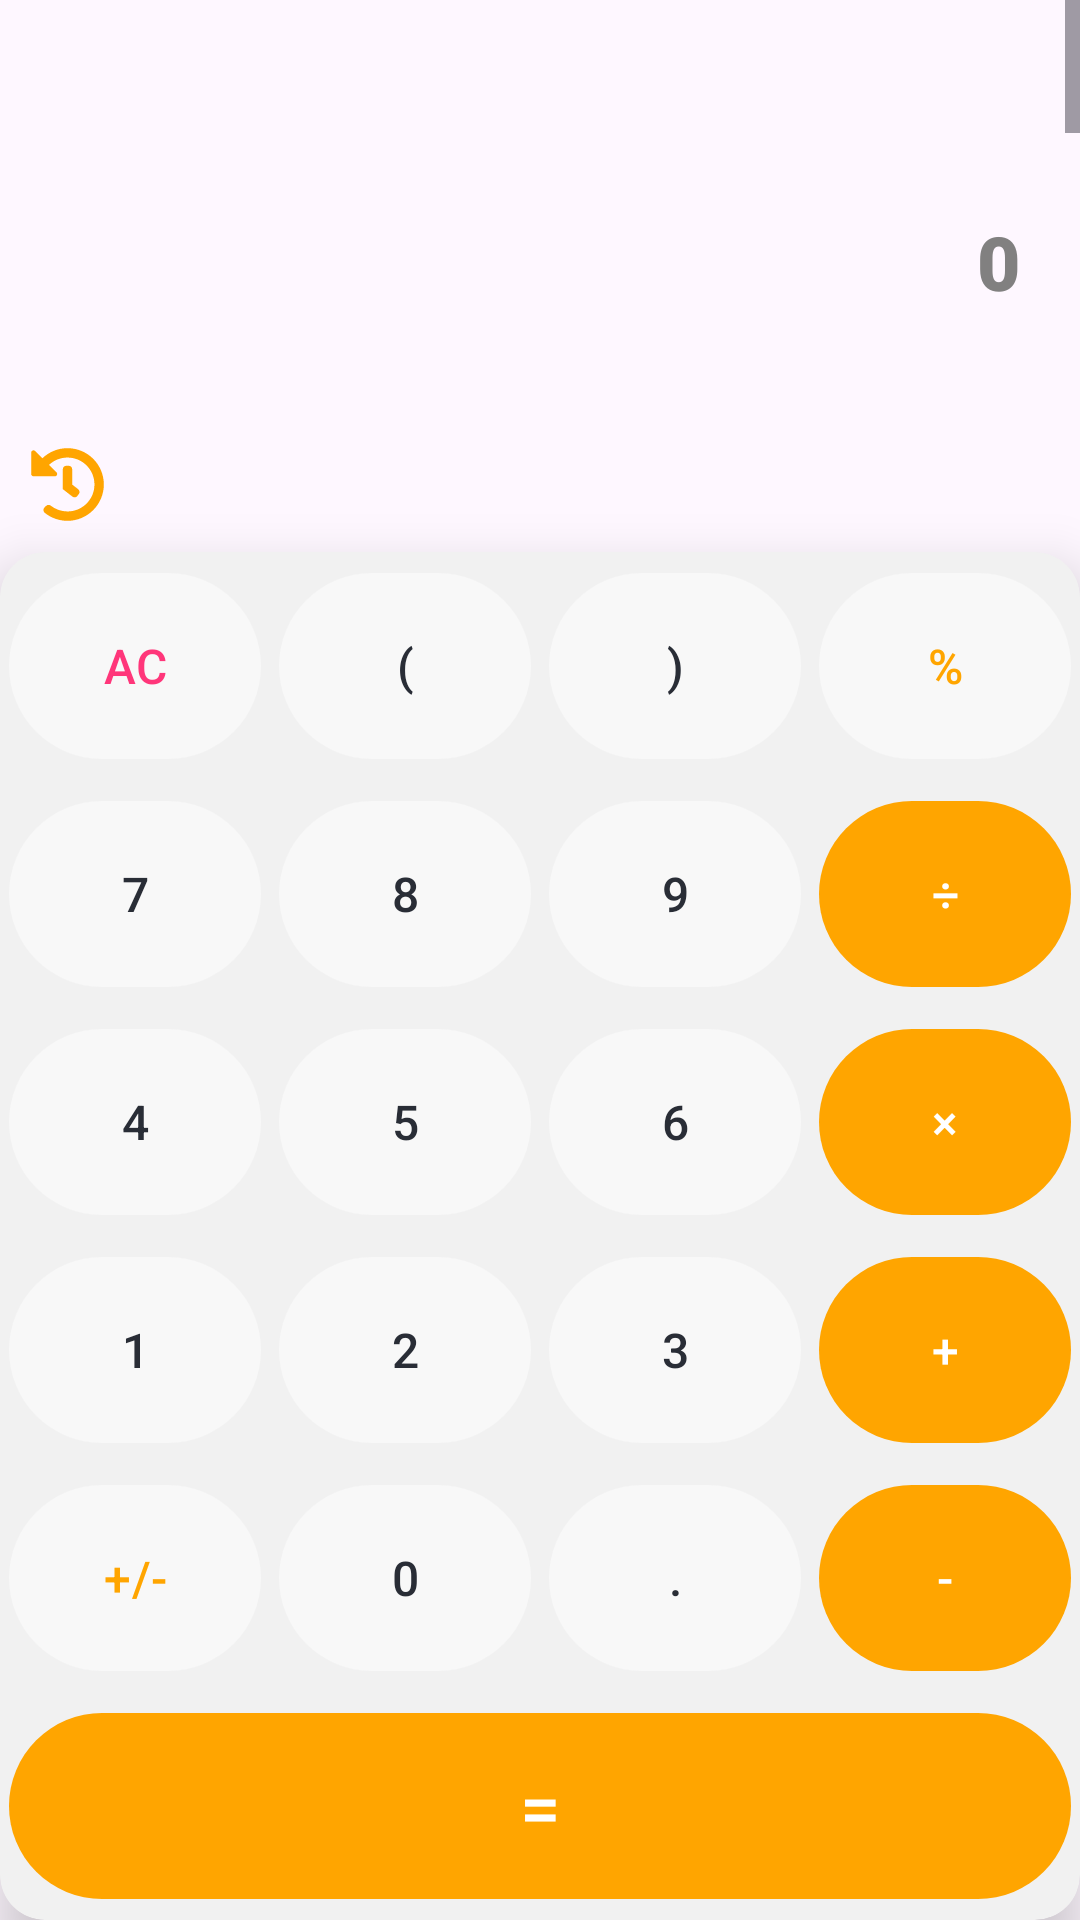

Where to tap for icons on this 1080×1920 app screen, as [x,y]:
history: [67,484]
